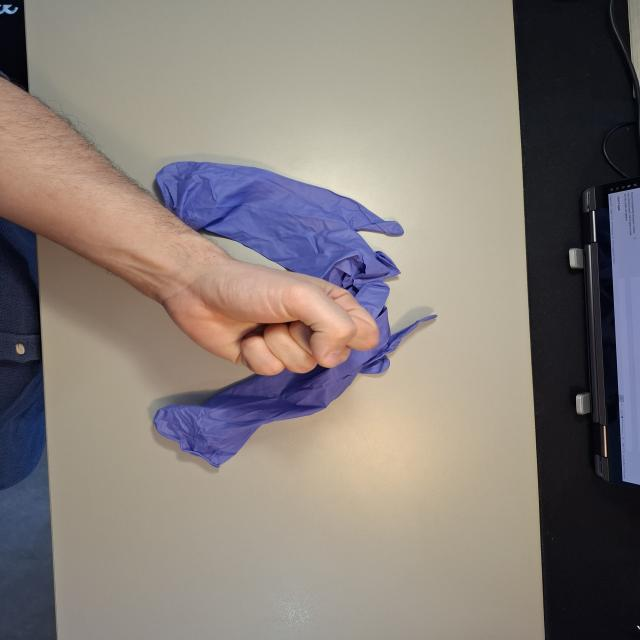glove_off: (148, 254, 384, 378)
